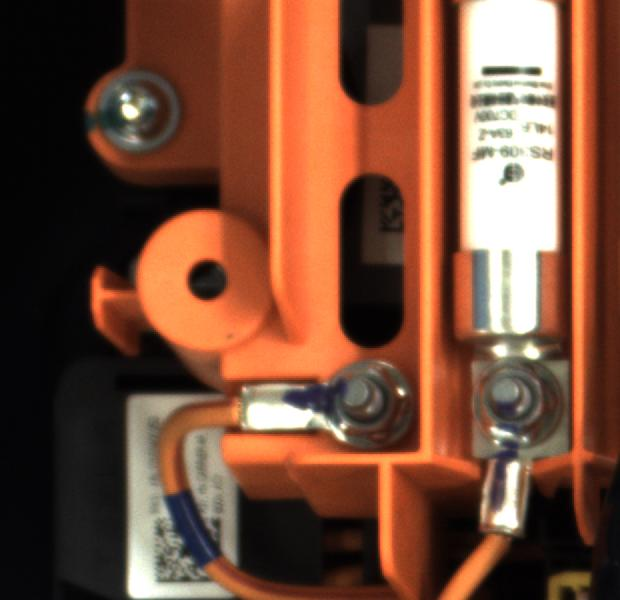screw_m: (86, 60, 195, 160)
screw_s: (469, 356, 577, 447), (319, 347, 414, 444)
